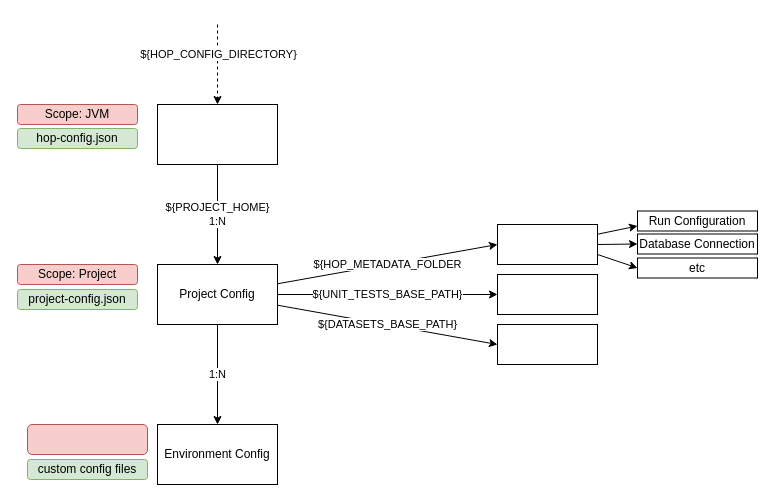
Some shapes in this 775 by 502 pixel diagram are drawn without their labels. The shapes that lost their labels are listed below. From the top down, each one's box as (x1, y1, x2, y2) in pixels, then its label:
(156, 104, 278, 164): Hop Config
(496, 224, 598, 264): Metadata
(496, 274, 598, 314): Unit Tests Base
(496, 324, 598, 364): Datasets Base
(26, 424, 148, 454): Scope: Project & Environment
